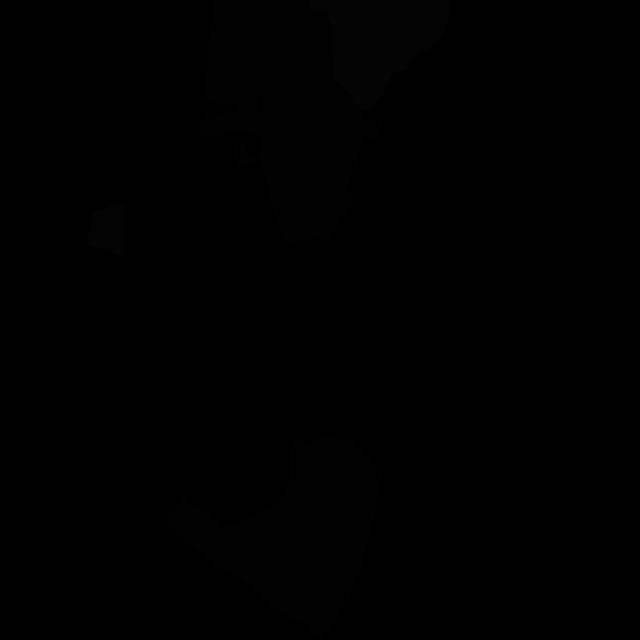cardboard: (163, 434, 382, 640), (260, 0, 353, 247), (204, 0, 277, 105), (332, 83, 382, 174), (199, 102, 262, 167)
soft_plastic: (308, 0, 450, 110), (87, 203, 125, 256)
